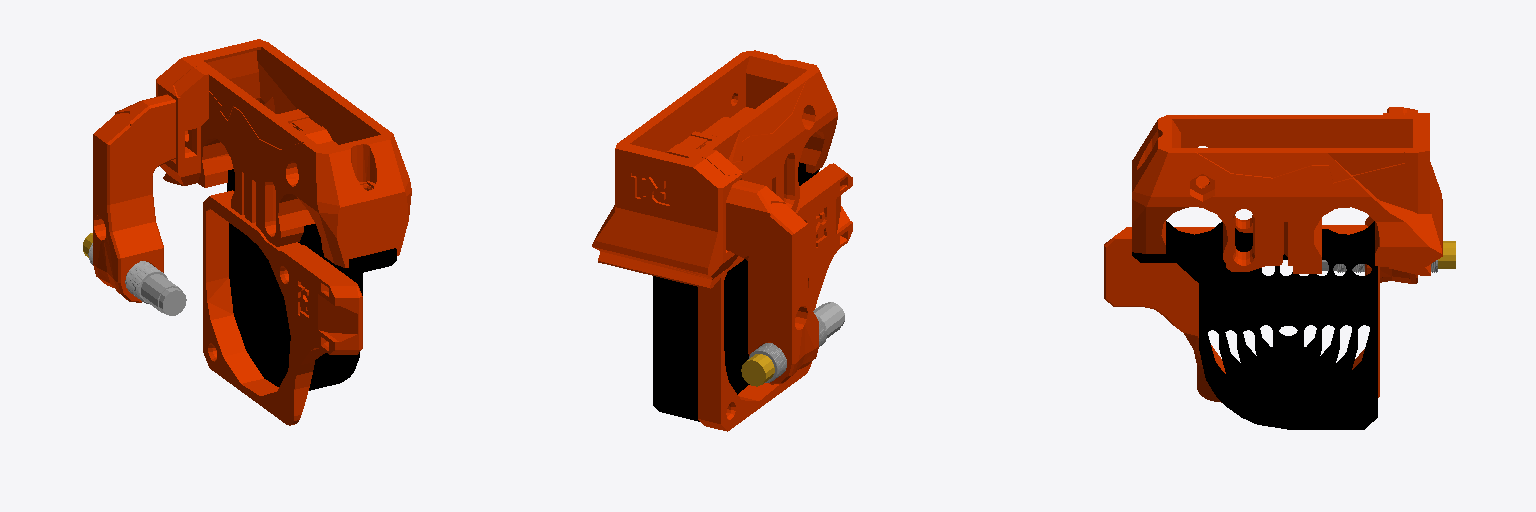
File: Mini_Hotend.obj
3 renders of one model, left to right at view 1: azimuth 30°, elevation 25°; view 2: azimuth 150°, elevation 25°; view 3: azimuth 270°, elevation 25°, orthographic.
Parts seen in each view (by area): view 1: Prusa_mini_assembly; view 2: Prusa_mini_assembly; view 3: Prusa_mini_assembly.
Part boxes in pixels (x1,y1,x2,y2): Prusa_mini_assembly: (83,39,411,425); Prusa_mini_assembly: (592,50,852,431); Prusa_mini_assembly: (1104,107,1455,429).
Bounding box in the file's own units: 48.92 × 70.66 × 78.64.